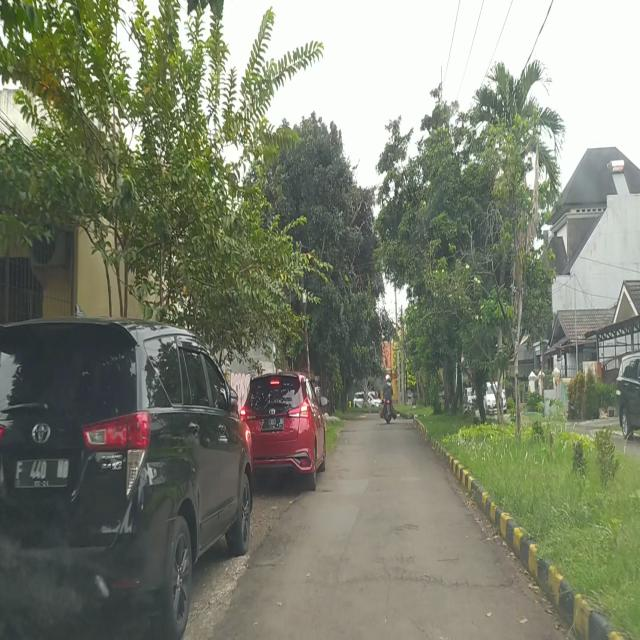Drain Hole: (376, 552, 443, 585)
